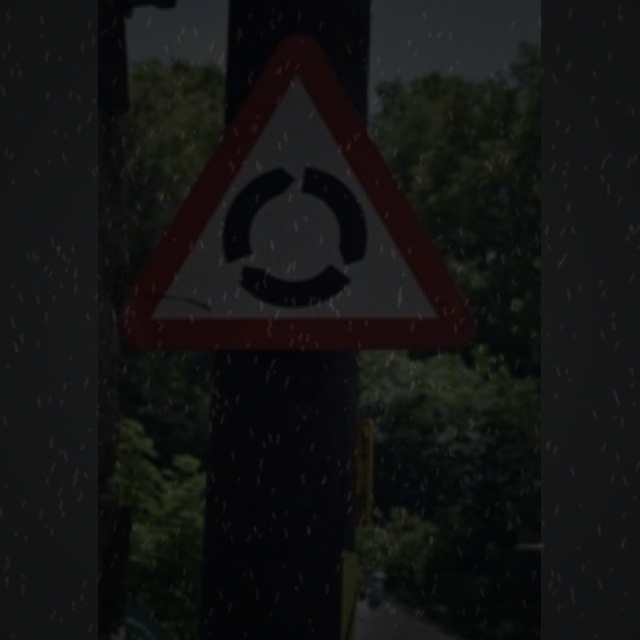Round_About: (131, 28, 469, 345)
